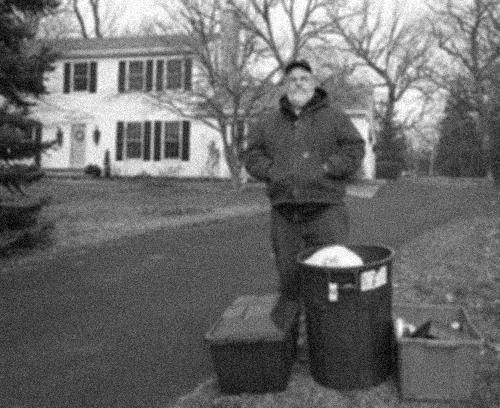Bote de Basura: (298, 238, 392, 382), (388, 295, 480, 403), (208, 292, 302, 396)
